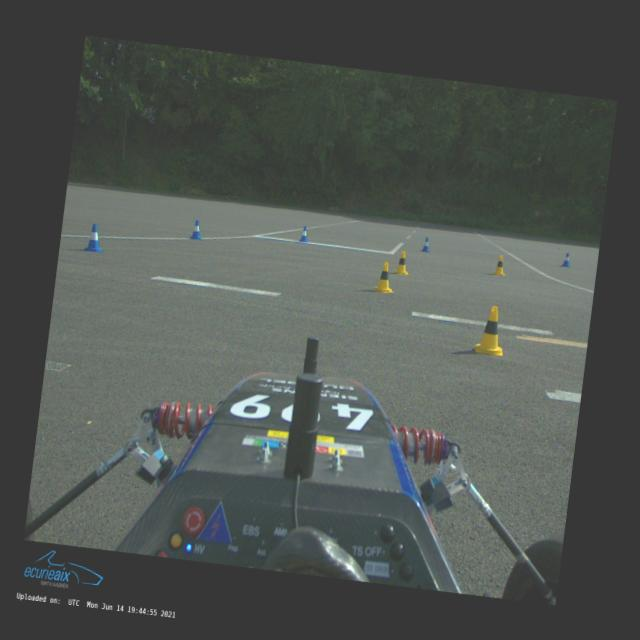blue_cone: (82, 222, 106, 252), (190, 219, 203, 240), (298, 225, 310, 242), (560, 252, 572, 266), (421, 237, 432, 252)
yellow_cone: (473, 304, 508, 356), (371, 260, 396, 294), (392, 250, 412, 274), (491, 254, 508, 276)
